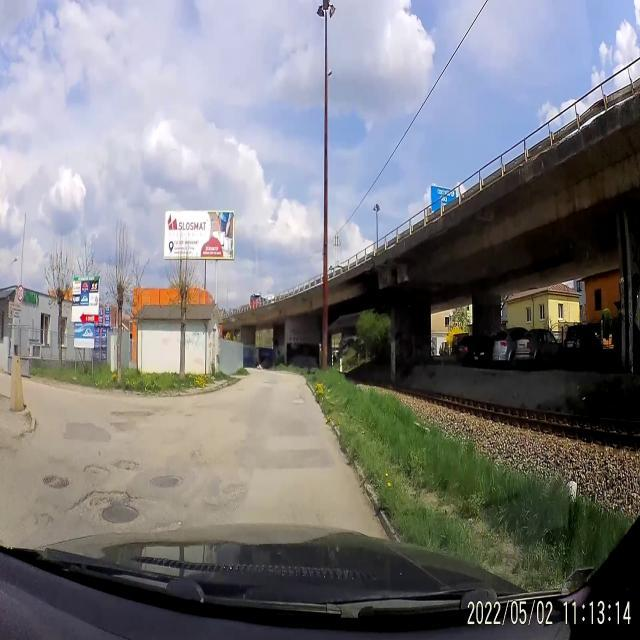Manhole: (100, 497, 142, 525), (41, 466, 75, 498), (148, 470, 184, 495)
Pothole: (78, 487, 128, 520), (203, 479, 252, 509), (32, 505, 62, 536), (154, 514, 188, 540), (84, 458, 111, 484), (112, 452, 142, 474), (188, 440, 208, 462)
